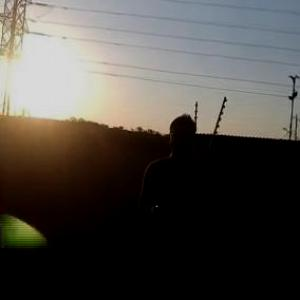follow: (129, 105, 211, 299)
